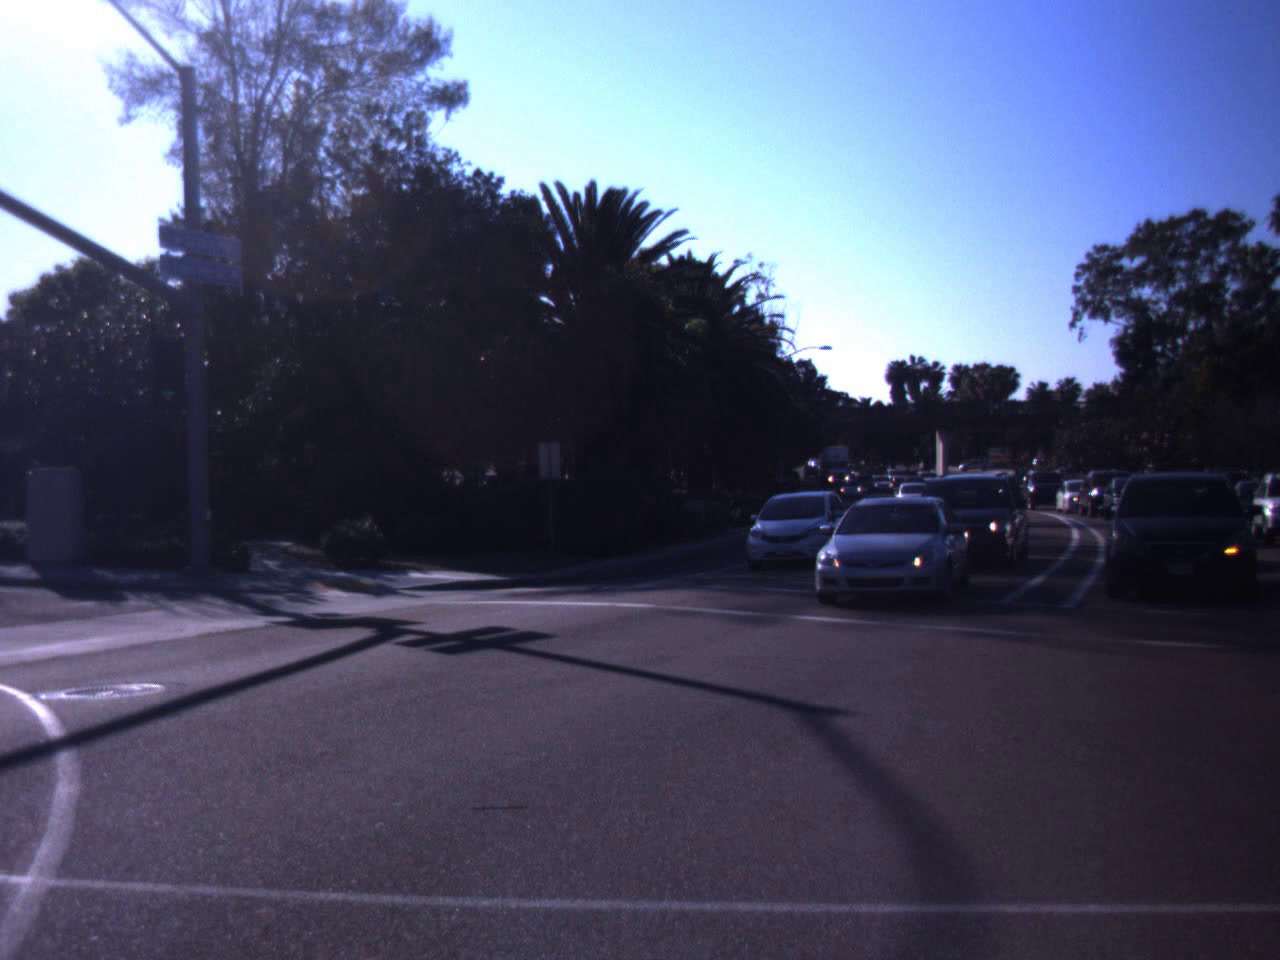go: (144, 347, 189, 402)
